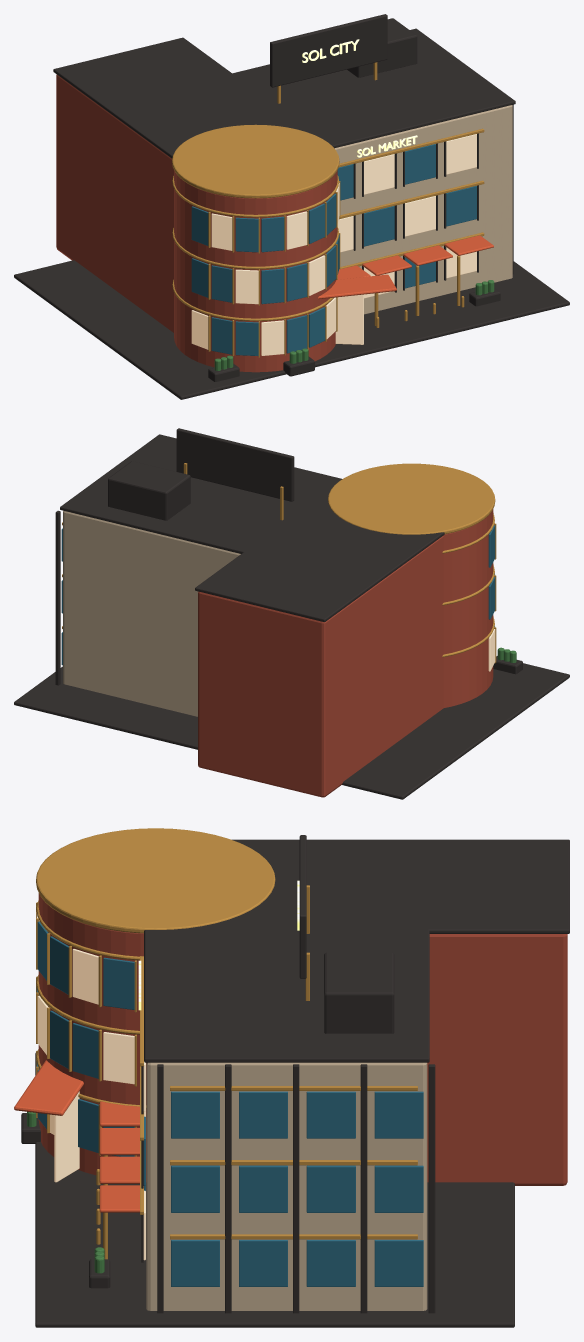
File: SM_SolCity_CornerRetail_01.fbx
The picture shows the model from 3 angles, top to bottom: view 1: azimuth 30°, elevation 25°; view 2: azimuth 150°, elevation 25°; view 3: azimuth 270°, elevation 25°; orthographic projection. The views are drawn at different scales.
Visible parts, largest first — view 1: Retail_North_Wing, Retail_Foundation, Retail_Roof_Cap, Retail_East_Wing, Retail_North_Cap, Retail_Rotunda, Rotunda_Cap, Billboard_Back, Roof_HVAC_Screen, Corner_Entry_Glass, Corner_Marquee, Front_Glass_1_1 (+35 smaller); view 2: Retail_North_Wing, Retail_East_Wing, Retail_Foundation, Retail_North_Cap, Retail_Roof_Cap, Rotunda_Cap, Retail_Rotunda, Billboard_Back, Roof_HVAC_Screen, East_Pilaster_+6.70; view 3: Retail_Roof_Cap, Retail_North_Wing, Retail_East_Wing, Retail_Foundation, Retail_North_Cap, Rotunda_Cap, Retail_Rotunda, Roof_HVAC_Screen, East_Glass_2_3, East_Glass_1_2, East_Glass_1_3, East_Glass_2_2 (+30 smaller).
Part boxes in pixels (bbox=[...]): Retail_North_Wing: bbox=[56, 74, 173, 332]; Retail_Foundation: bbox=[14, 260, 569, 399]; Retail_Roof_Cap: bbox=[165, 28, 515, 148]; Retail_East_Wing: bbox=[334, 105, 512, 314]; Retail_North_Cap: bbox=[53, 37, 317, 158]; Retail_Rotunda: bbox=[174, 170, 337, 372]; Rotunda_Cap: bbox=[172, 124, 339, 198]; Billboard_Back: bbox=[270, 14, 387, 87]; Roof_HVAC_Screen: bbox=[347, 18, 417, 77]; Corner_Entry_Glass: bbox=[335, 294, 363, 344]; Corner_Marquee: bbox=[318, 274, 396, 299]; Front_Glass_1_1: bbox=[364, 206, 394, 246]; Retail_North_Wing: bbox=[198, 536, 443, 797]; Retail_East_Wing: bbox=[63, 510, 240, 716]; Retail_Foundation: bbox=[14, 663, 569, 799]; Retail_North_Cap: bbox=[195, 502, 444, 622]; Retail_Roof_Cap: bbox=[60, 434, 359, 553]; Rotunda_Cap: bbox=[328, 463, 495, 534]; Retail_Rotunda: bbox=[443, 509, 493, 707]; Billboard_Back: bbox=[176, 428, 294, 501]; Roof_HVAC_Screen: bbox=[108, 461, 190, 520]; East_Pilaster_+6.70: bbox=[55, 510, 60, 685]; Retail_Roof_Cap: bbox=[144, 879, 429, 1062]; Retail_North_Wing: bbox=[427, 934, 567, 1185]; Retail_East_Wing: bbox=[146, 1062, 427, 1310]; Retail_Foundation: bbox=[35, 1053, 514, 1327]; Retail_North_Cap: bbox=[178, 839, 569, 933]; Rotunda_Cap: bbox=[36, 828, 275, 933]; Retail_Rotunda: bbox=[38, 893, 146, 1181]; Roof_HVAC_Screen: bbox=[324, 952, 394, 1033]; East_Glass_2_3: bbox=[374, 1091, 423, 1138]; East_Glass_1_2: bbox=[306, 1165, 355, 1212]; East_Glass_1_3: bbox=[374, 1165, 423, 1212]; East_Glass_2_2: bbox=[306, 1091, 355, 1138].
Bounding box in the file's own units: 27.5 × 23.76 × 16.5.
